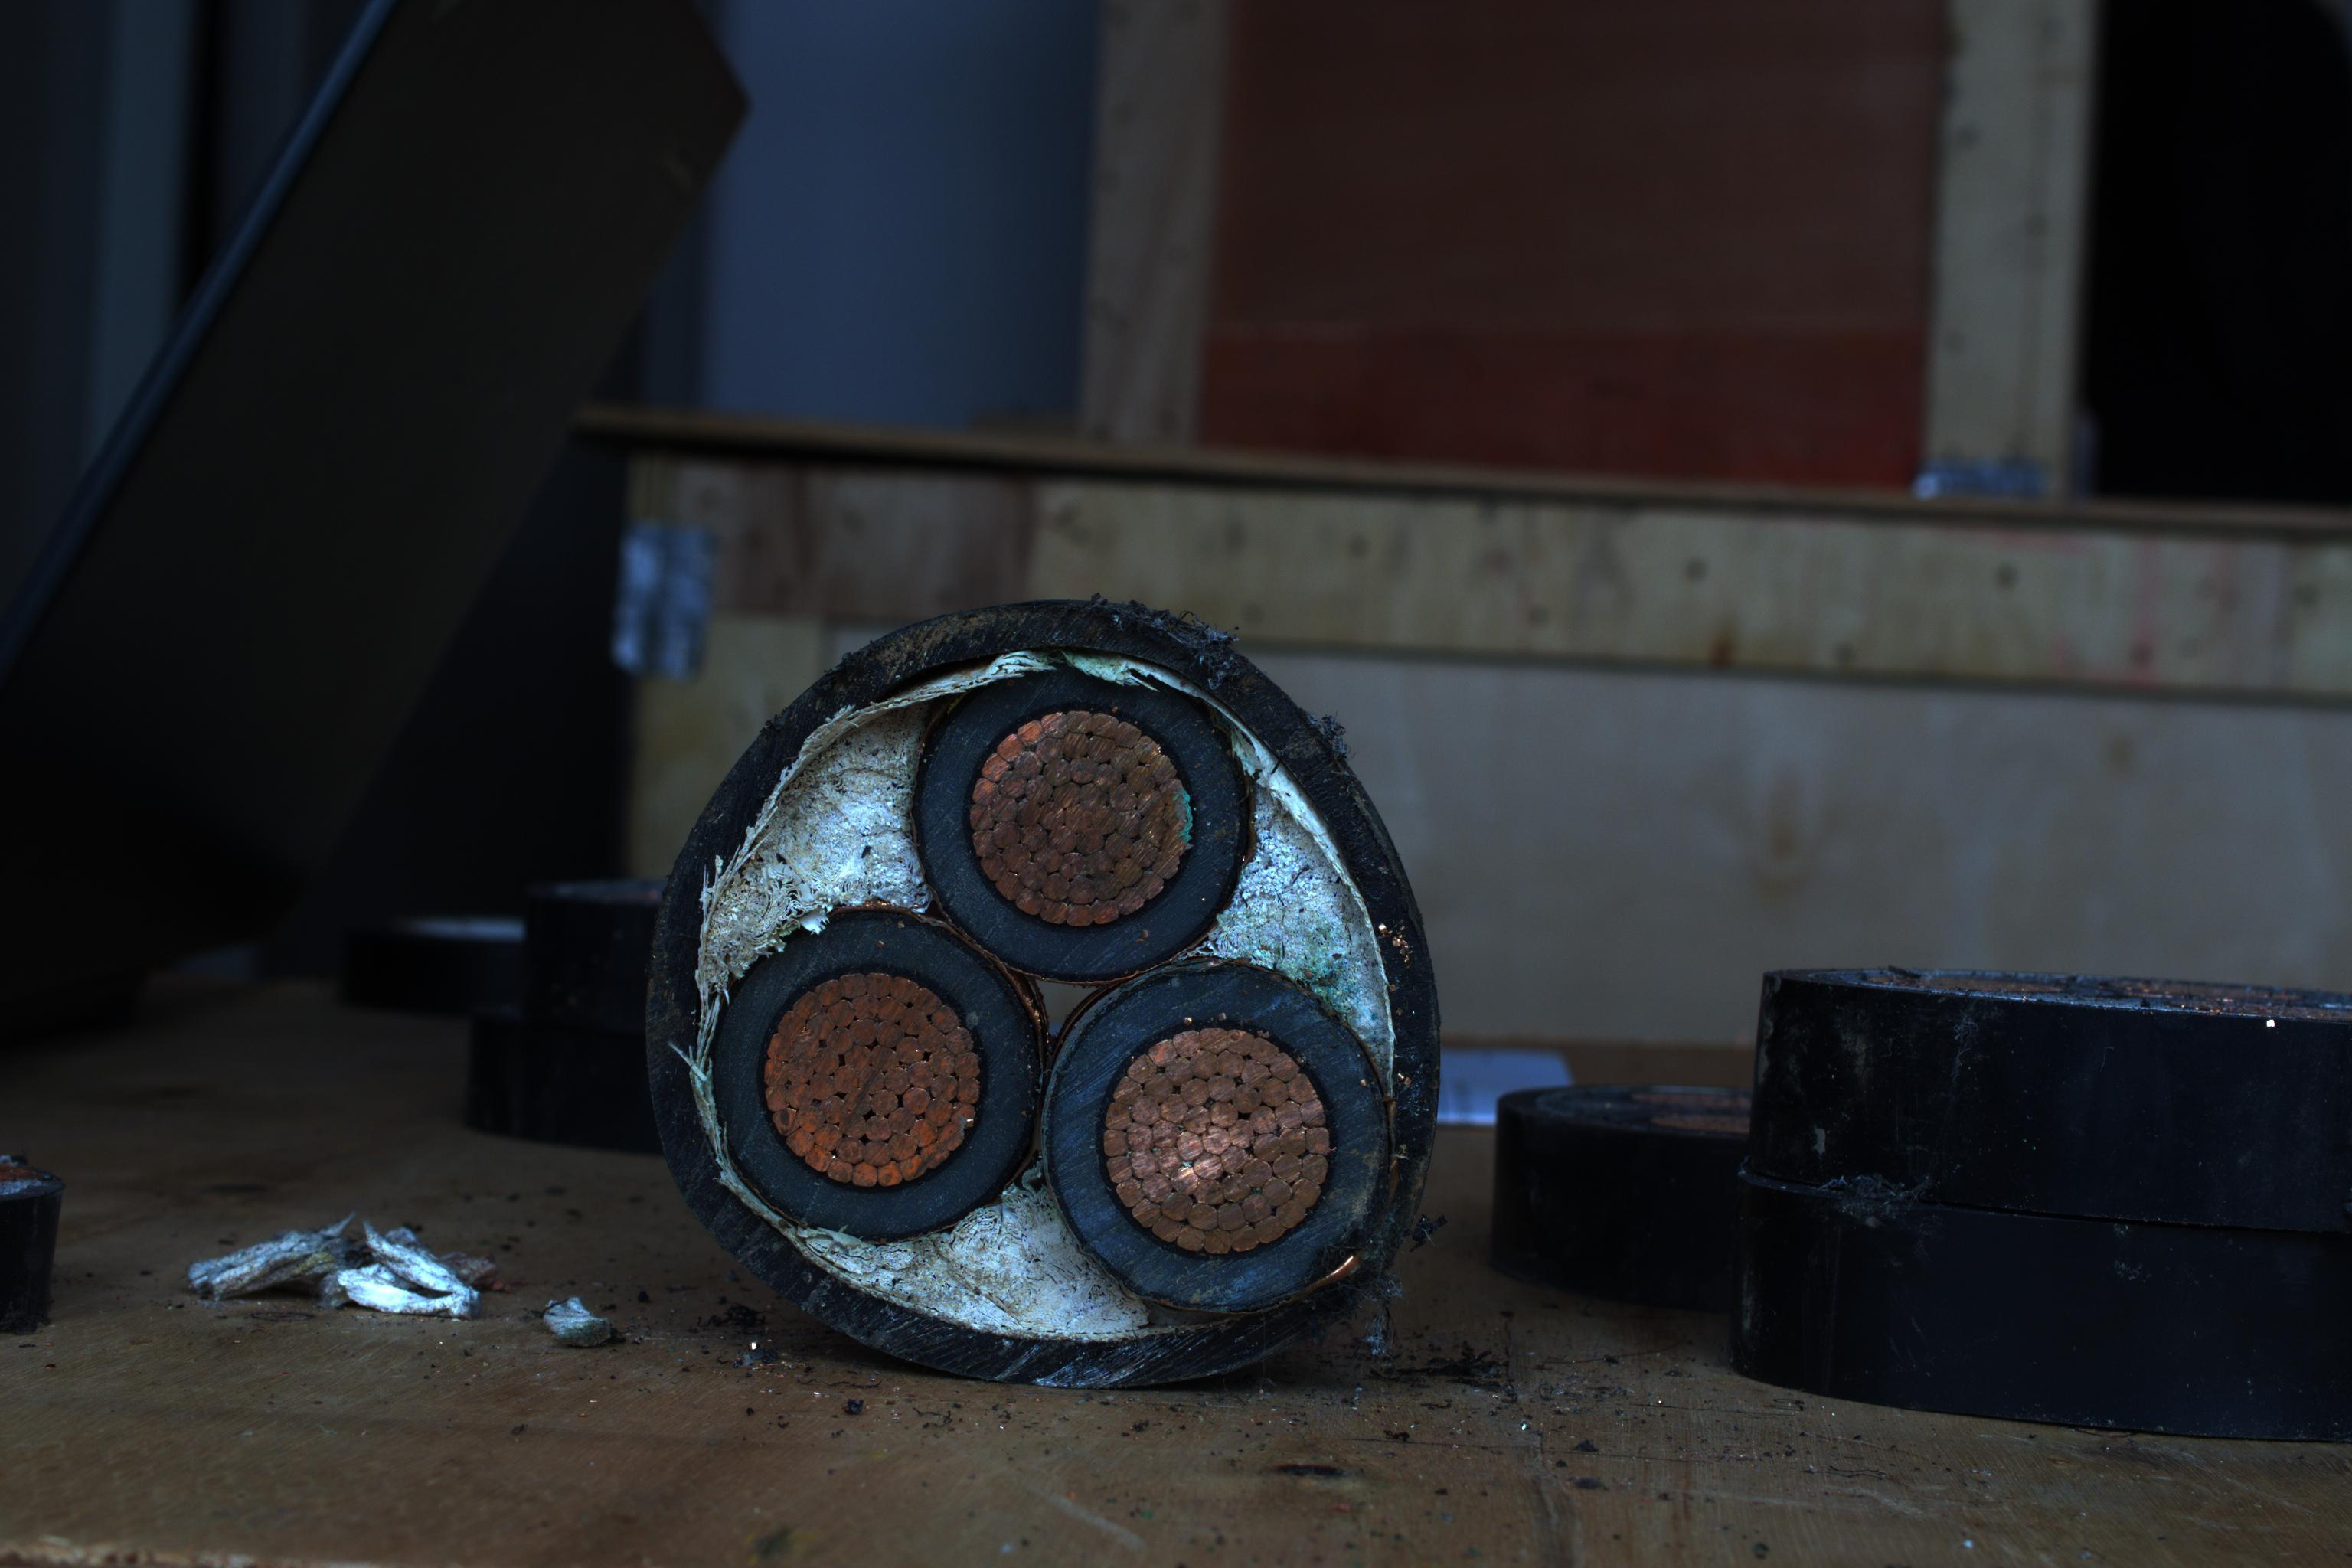ZA_YJV_8.7_10kV_3x400: (647, 626, 1437, 1361)
